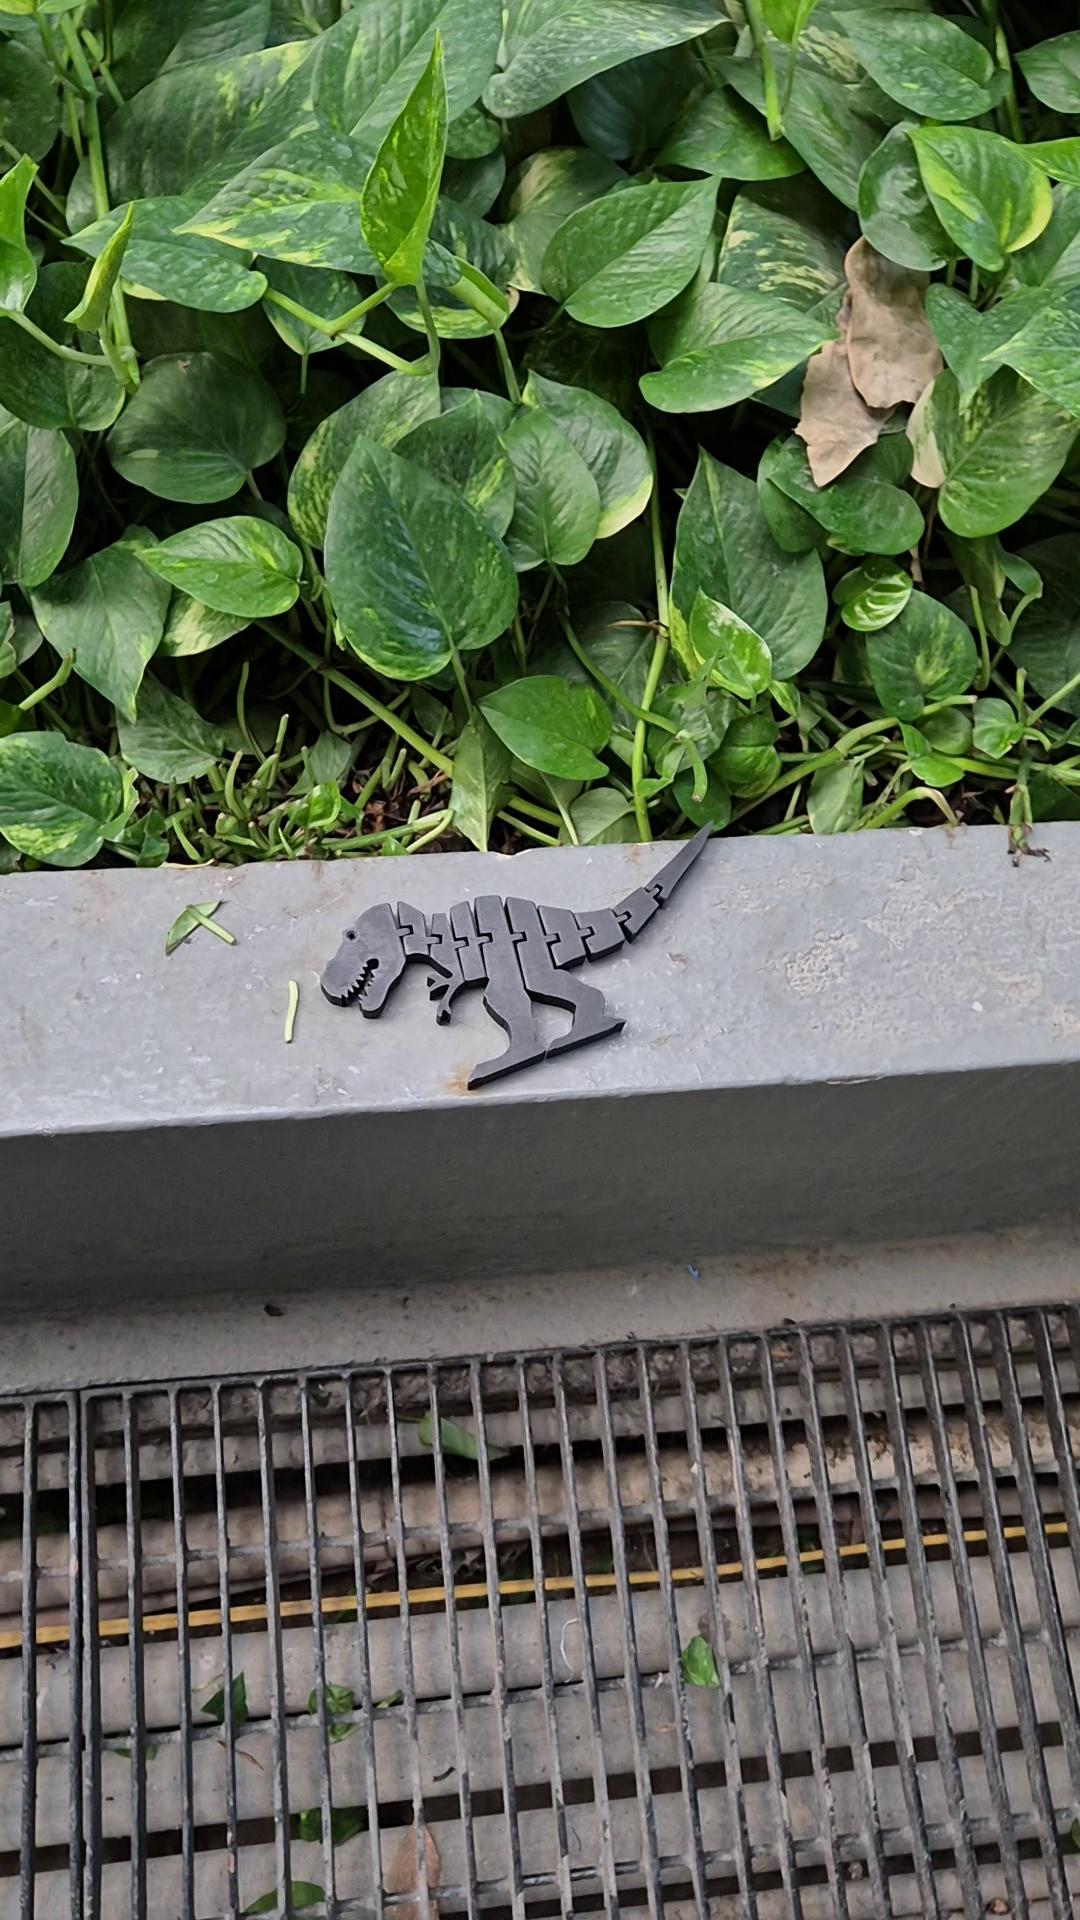dinosaur: (318, 818, 715, 1092)
